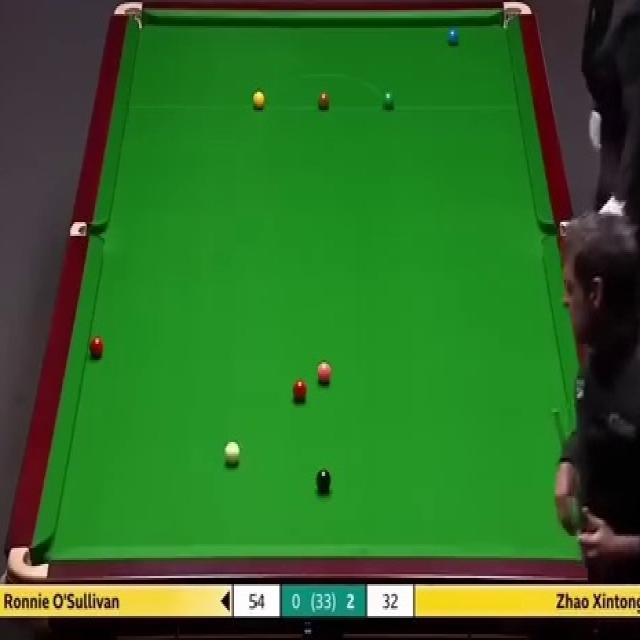black-ball: (315, 469, 332, 492)
blue-ball: (446, 27, 460, 46)
brown-ball: (317, 92, 330, 109)
green-ball: (382, 88, 396, 112)
pink-ball: (316, 361, 332, 384)
red-ball: (89, 335, 105, 358), (292, 378, 307, 401)
white-ball: (222, 440, 240, 467)
yellow-ball: (252, 89, 266, 110)
